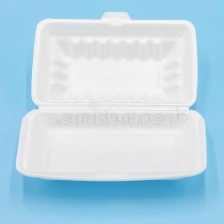foam_box: (12, 6, 212, 187)
